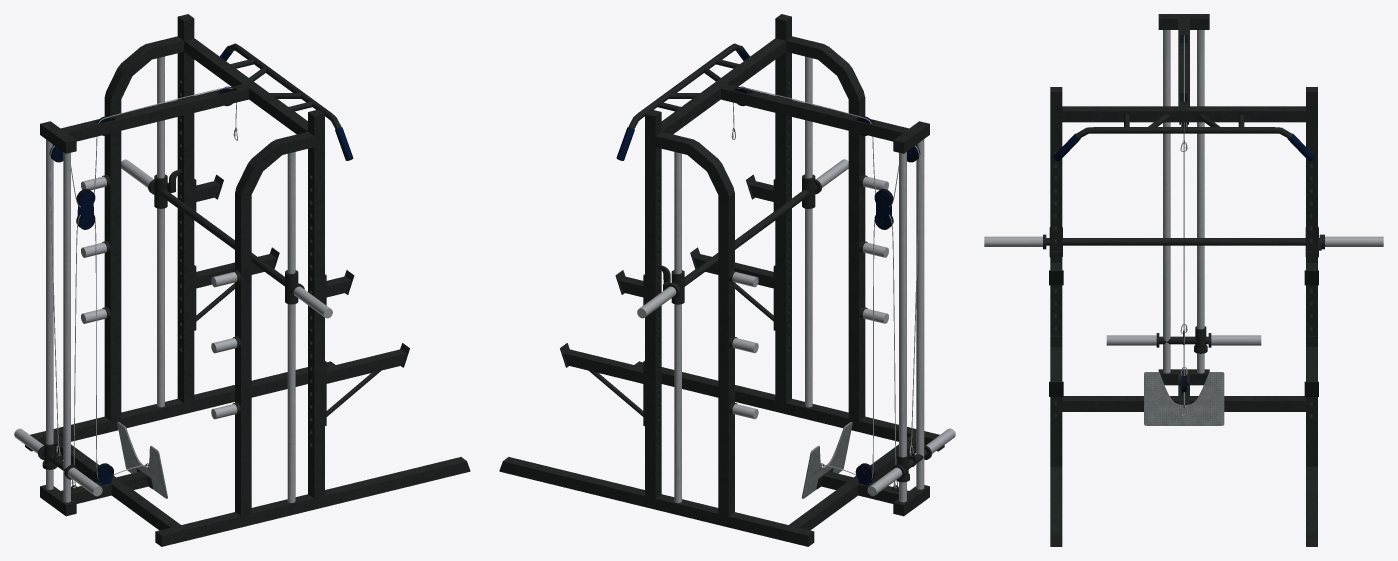
File: scene_nolights.gltf
The picture shows the model from 3 angles, left to right: view 1: azimuth 30°, elevation 25°; view 2: azimuth 150°, elevation 25°; view 3: azimuth 270°, elevation 25°; orthographic projection. The views are drawn at different scales.
Visible parts, largest first — view 1: Cube002, Cylinder017, Cylinder002, Cylinder017_1, Cylinder002_1, Cube002_1, Cylinder019, Cylinder017_4, Cylinder017_2, Cylinder017_3; view 2: Cube002, Cylinder017, Cylinder017_1, Cylinder002, Cylinder002_1, Cube002_1, Cylinder019, Cylinder017_4, Cylinder017_2, Cylinder017_3; view 3: Cube002, Cylinder017, Cylinder017_1, Cylinder017_4, Cylinder002_1, Cylinder019, Cylinder002, Cylinder019_1.
Part boxes in pixels (x1,y1,x2,y2): Cube002: (25, 14, 470, 546); Cylinder017: (14, 87, 237, 502); Cylinder002: (121, 56, 332, 502); Cylinder017_1: (38, 84, 248, 516); Cylinder002_1: (148, 169, 304, 304); Cube002_1: (81, 176, 237, 419); Cylinder019: (227, 43, 341, 129); Cylinder017_4: (117, 422, 167, 498); Cylinder017_2: (49, 86, 234, 481); Cylinder017_3: (52, 144, 111, 485); Cube002: (499, 14, 944, 546); Cylinder017: (731, 87, 955, 502); Cylinder017_1: (721, 84, 931, 516); Cylinder002: (637, 56, 848, 502); Cylinder002_1: (657, 174, 821, 304); Cube002_1: (732, 176, 888, 419); Cylinder019: (628, 43, 742, 129); Cylinder017_4: (801, 422, 852, 498); Cylinder017_2: (735, 86, 920, 481); Cylinder017_3: (858, 144, 917, 485); Cube002: (1049, 87, 1318, 546); Cylinder017: (1106, 30, 1261, 415); Cylinder017_1: (1156, 14, 1211, 407); Cylinder017_4: (1144, 372, 1224, 425); Cylinder002_1: (1043, 227, 1324, 257); Cylinder019: (1075, 114, 1292, 138); Cylinder002: (984, 236, 1383, 246); Cylinder019_1: (1053, 133, 1314, 161).
Size of the model in its own units: 2 by 2.13 by 2.
Materials: 5 (3 with a texture image).
